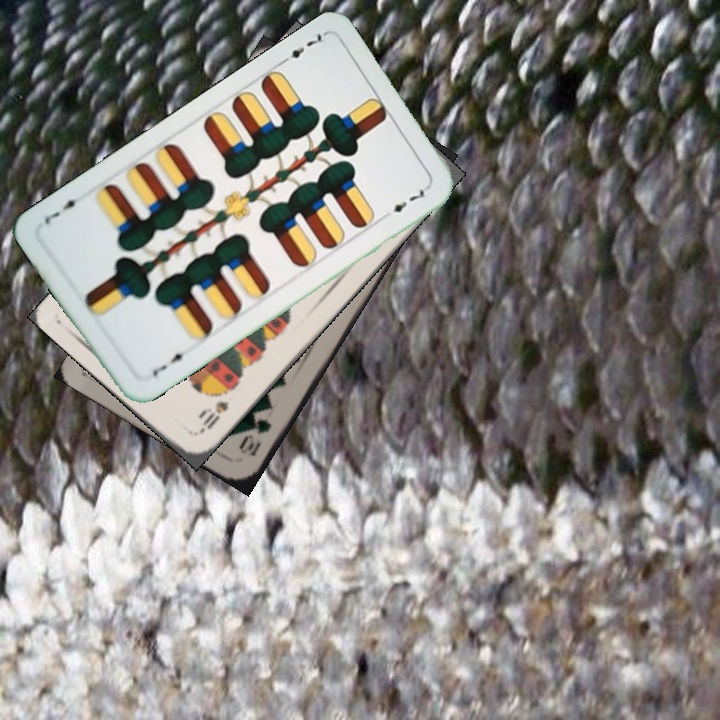E7: (276, 28, 328, 67), (148, 348, 192, 380)
G10: (235, 414, 274, 459)
S10: (191, 396, 232, 437)
